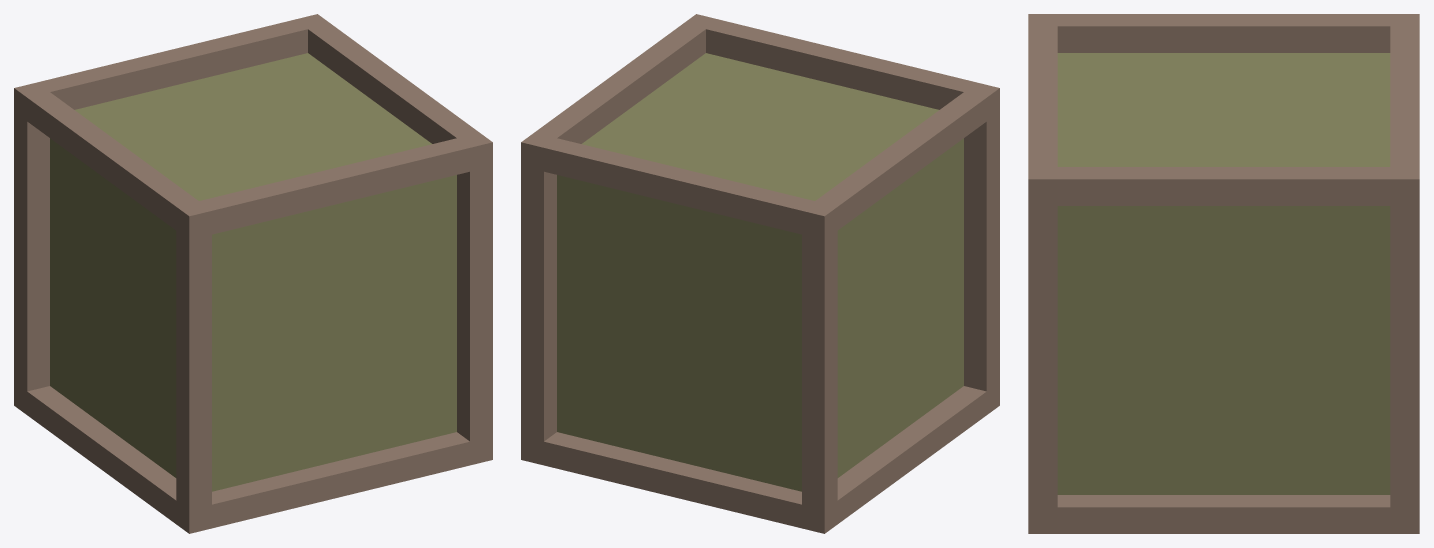
The model's file is caixote.fbx.
3 views of the same model, side by side, from view 1: azimuth 30°, elevation 25°; view 2: azimuth 150°, elevation 25°; view 3: azimuth 270°, elevation 25° (orthographic). The views are drawn at different scales.
Parts seen in each view (by area): view 1: Cube.016; view 2: Cube.016; view 3: Cube.016.
Part boxes in pixels (x1,y1,x2,y2): Cube.016: (14,14,492,533); Cube.016: (521,14,999,533); Cube.016: (1028,14,1419,533).
Bounding box in the file's own units: 80 × 80 × 80.
